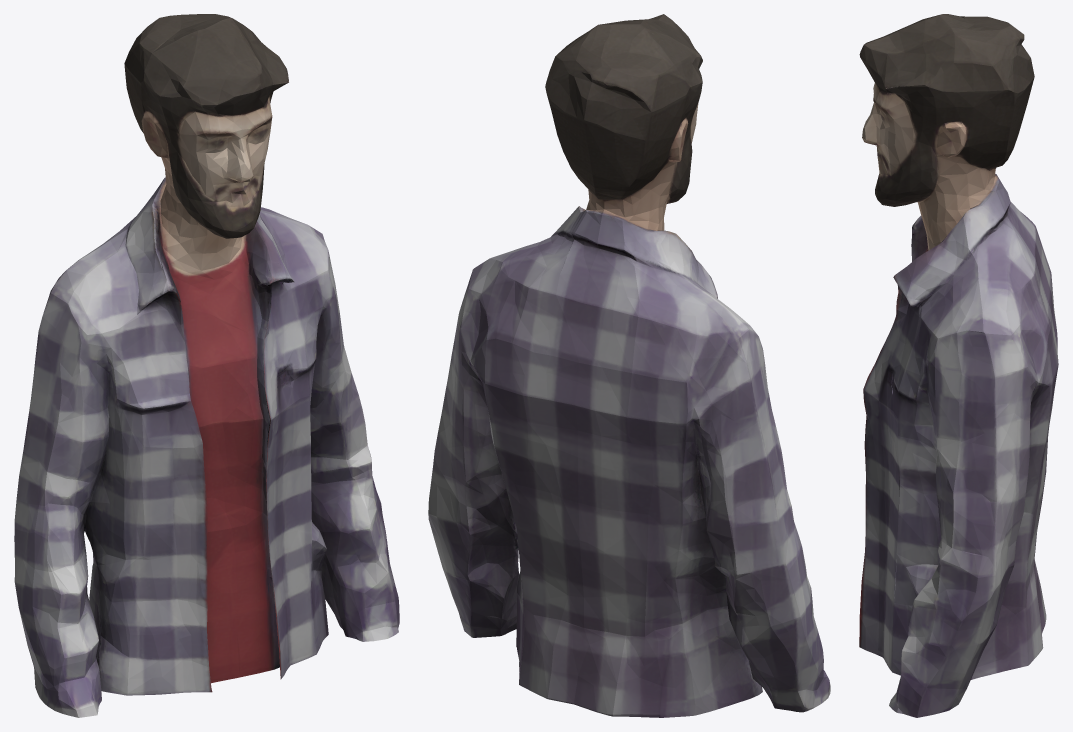
Rendered from _render.glb.
3 renders of one model, left to right at view 1: azimuth 30°, elevation 25°; view 2: azimuth 150°, elevation 25°; view 3: azimuth 270°, elevation 25°, orthographic. The views are drawn at different scales.
Visible parts, largest first — view 1: geometry_0; view 2: geometry_0; view 3: geometry_0.
Part boxes in pixels (left/top/right/bottom): geometry_0: left=14, top=14, right=399, bottom=717; geometry_0: left=428, top=14, right=830, bottom=717; geometry_0: left=859, top=14, right=1058, bottom=717.
Bounding box in the file's own units: 0.497 × 0.8284 × 0.2431.
1 material, 1 textured.
